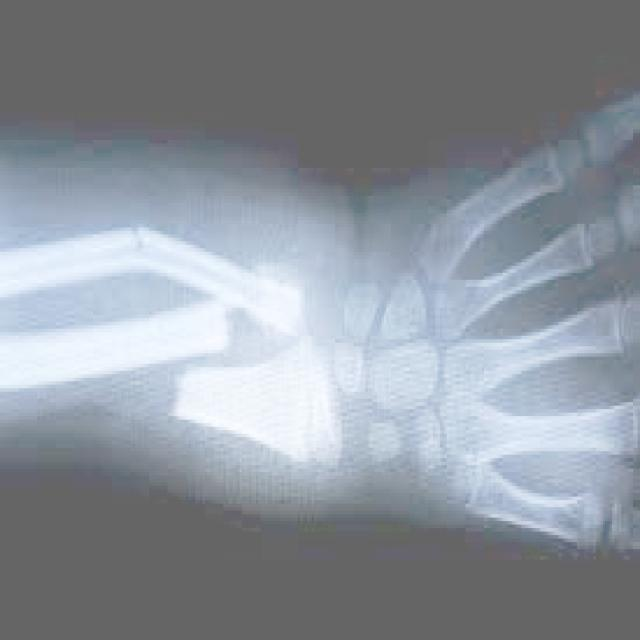Comminuted Fracture: (148, 303, 281, 449), (104, 215, 172, 293)
